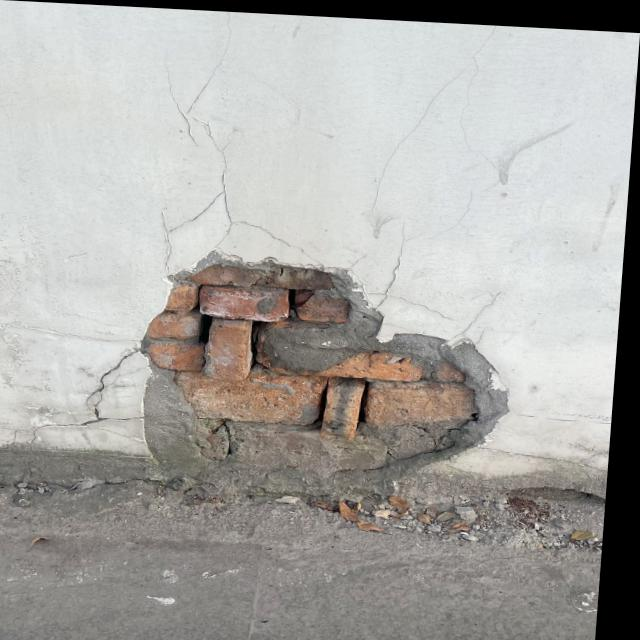crack: (157, 22, 261, 243), (64, 337, 140, 437)
spalling: (137, 246, 525, 489)
